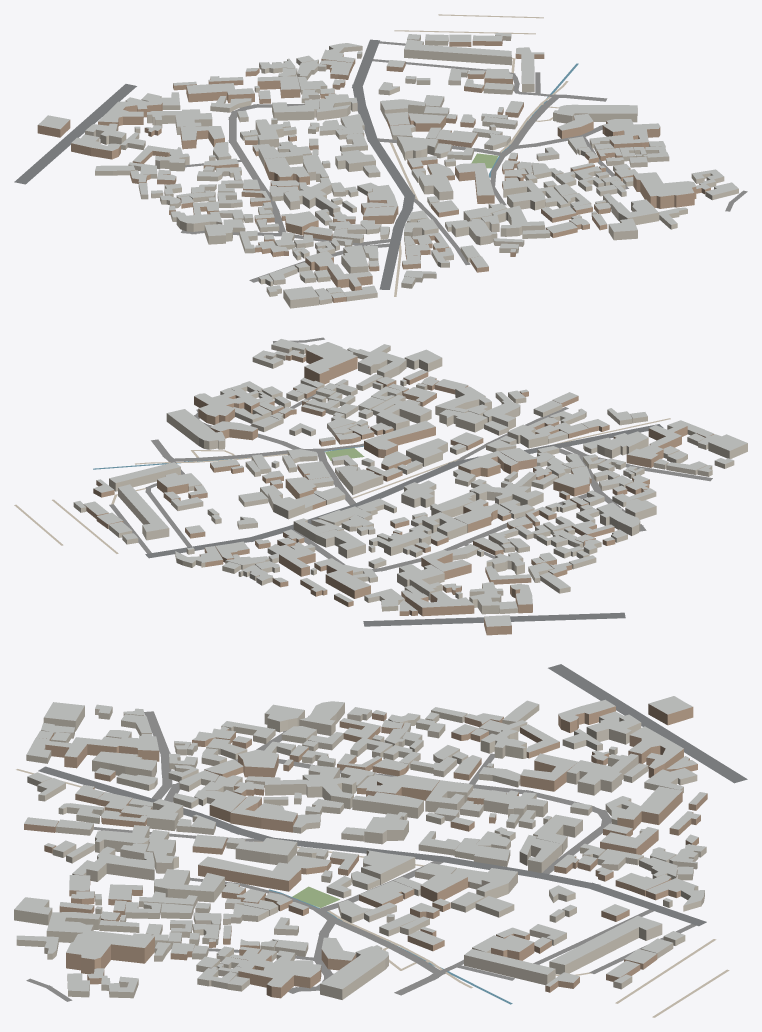
File: bolak_-5_3.glb
3 views of the same model, one above another, from view 1: azimuth 30°, elevation 25°; view 2: azimuth 150°, elevation 25°; view 3: azimuth 270°, elevation 25° (orthographic). The views are drawn at different scales.
Visible parts, largest first — view 1: Tom_Shifer, Devor_Suvoq-col, Devor_Gisht-col, Yol_Mahalla, Yol_Asfalt, Yol_Piyoda; view 2: Tom_Shifer, Devor_Suvoq-col, Devor_Gisht-col, Yol_Mahalla, Yol_Asfalt, Yol_Piyoda; view 3: Tom_Shifer, Devor_Suvoq-col, Devor_Gisht-col, Yol_Mahalla, Yol_Asfalt, Yol_Piyoda.
Boxes of the visible parts, x1,y1,x2,y2 form: Tom_Shifer: (38,33,738,300); Devor_Suvoq-col: (85,34,738,308); Devor_Gisht-col: (37,36,710,302); Yol_Mahalla: (181,41,747,282); Yol_Asfalt: (14,39,415,289); Yol_Piyoda: (390,14,568,296); Tom_Shifer: (74,339,747,626); Devor_Suvoq-col: (73,344,747,614); Devor_Gisht-col: (83,348,714,635); Yol_Mahalla: (109,337,712,572); Yol_Asfalt: (145,424,663,626); Yol_Piyoda: (14,418,670,553); Tom_Shifer: (14,696,706,992); Devor_Suvoq-col: (14,703,706,999); Devor_Gisht-col: (24,704,707,998); Yol_Mahalla: (26,711,696,1001); Yol_Asfalt: (38,664,747,926); Yol_Piyoda: (16,769,729,1017).
Bounding box in the file's own units: 506 × 10.4 × 444.
